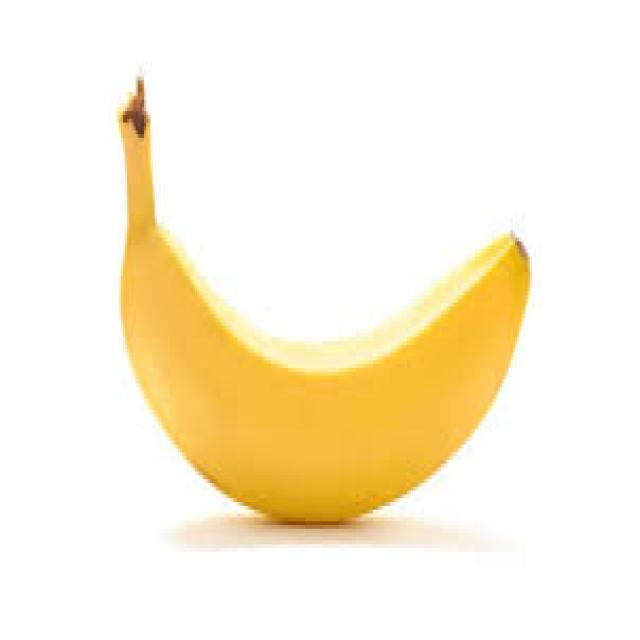banana: (114, 69, 532, 521)
